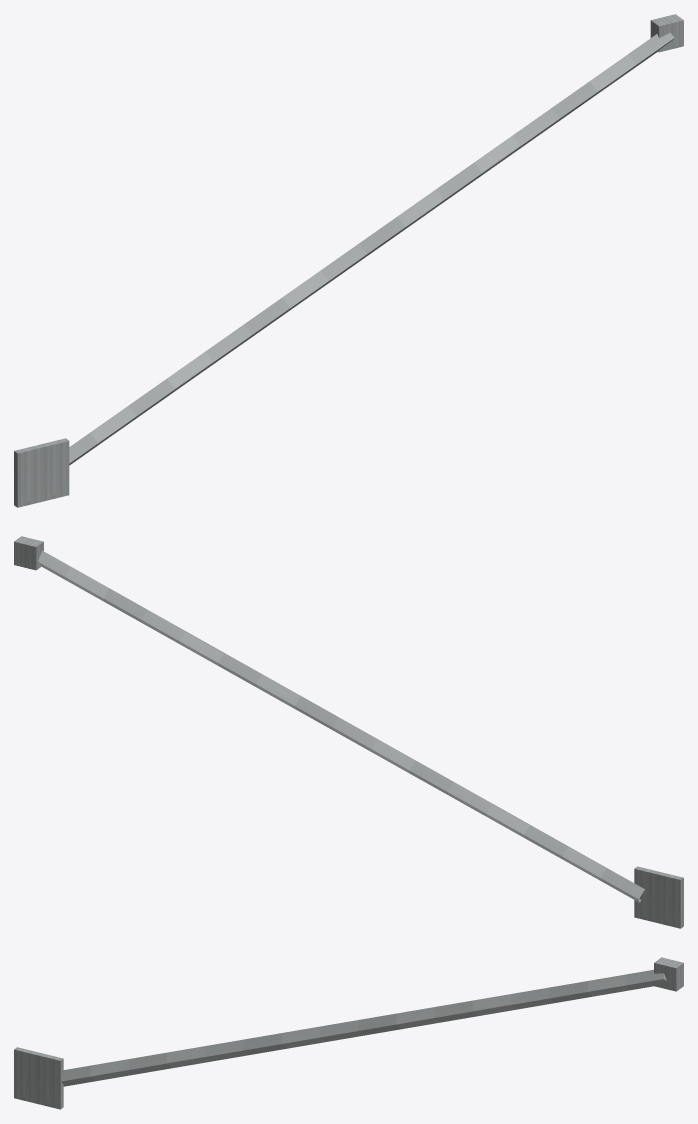
File: brace_r.obj
The picture shows the model from 3 angles, top to bottom: view 1: azimuth 30°, elevation 25°; view 2: azimuth 150°, elevation 25°; view 3: azimuth 330°, elevation 25°; orthographic projection. The views are drawn at different scales.
Parts seen in each view (by area): view 1: crossarm_alley_metal_6_r; view 2: crossarm_alley_metal_6_r; view 3: crossarm_alley_metal_6_r.
Part boxes in pixels (left/top/right/bottom): crossarm_alley_metal_6_r: left=14, top=14, right=683, bottom=507; crossarm_alley_metal_6_r: left=14, top=536, right=683, bottom=928; crossarm_alley_metal_6_r: left=14, top=957, right=683, bottom=1109.
Size of the model in its own units: 4.23 by 1.67 by 0.4625.
